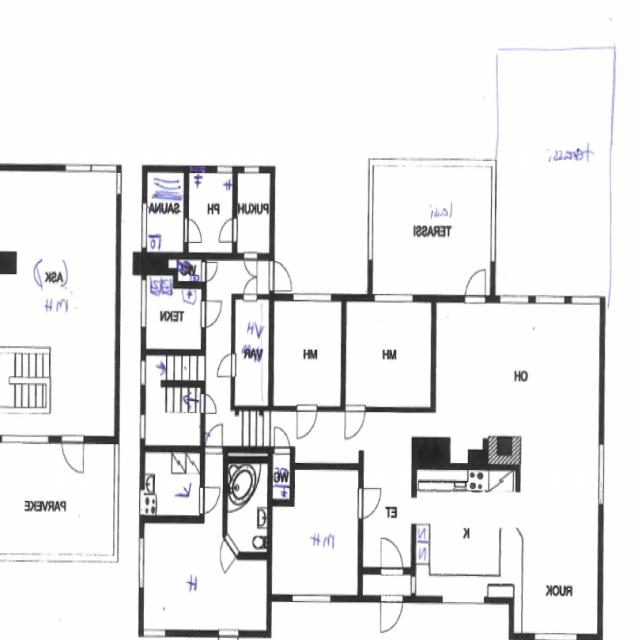door: (380, 596, 404, 638), (215, 534, 239, 572), (62, 436, 84, 475), (379, 534, 401, 572), (358, 489, 383, 520), (465, 265, 485, 303), (201, 299, 226, 329), (270, 262, 294, 292), (297, 406, 317, 440), (347, 406, 366, 439), (216, 216, 238, 243), (242, 272, 259, 303), (201, 489, 222, 514), (201, 390, 222, 415), (206, 422, 222, 452), (274, 423, 290, 452), (215, 353, 235, 376), (243, 252, 258, 282), (184, 223, 202, 242), (201, 263, 217, 280), (218, 630, 240, 640)
